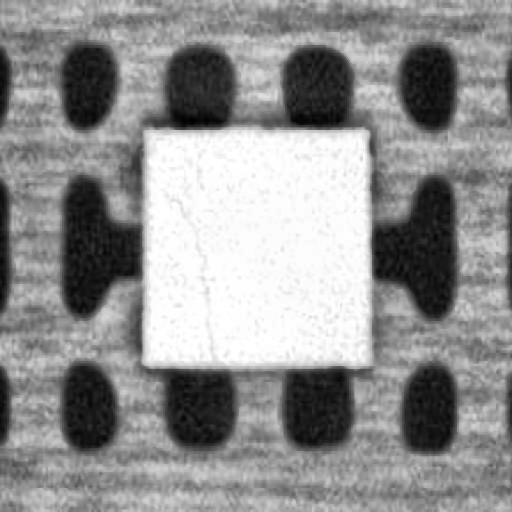DIE_CRACK: (163, 191, 216, 361)
